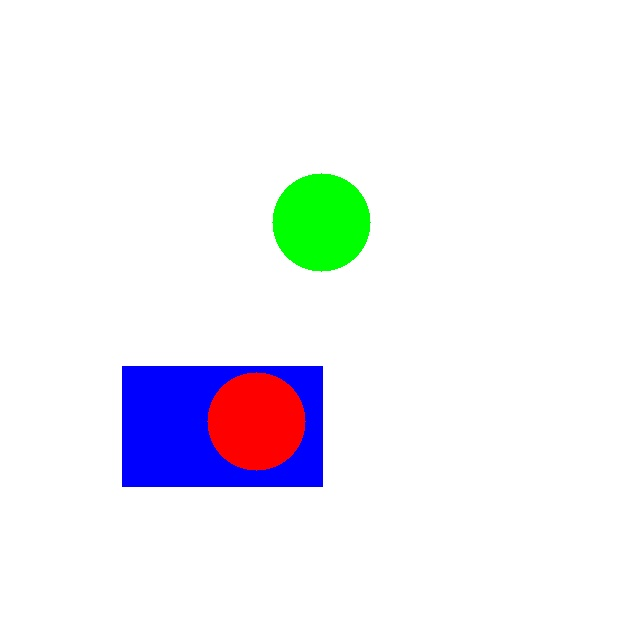cartao: (122, 366, 322, 486)
rosca_externa: (272, 173, 370, 271)
rosca_interna: (207, 372, 305, 470)
